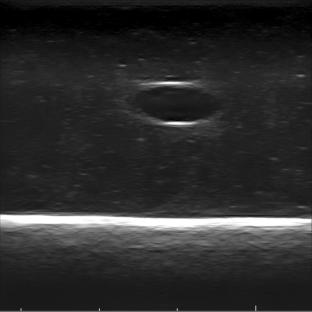vessel: (126, 81, 224, 128)
